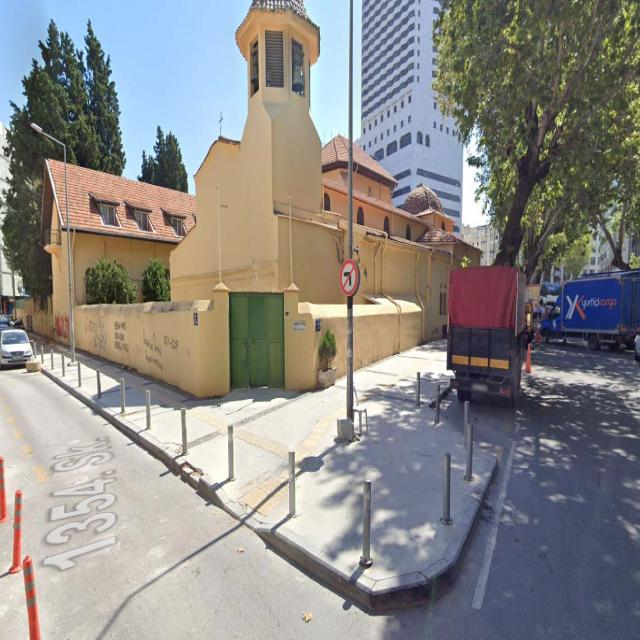soladonulmez: (339, 259, 359, 295)
